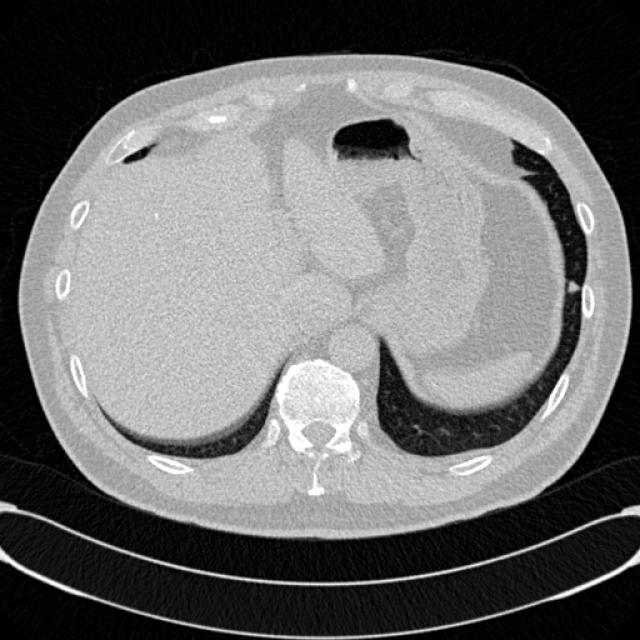nodule: (558, 272, 584, 298)
